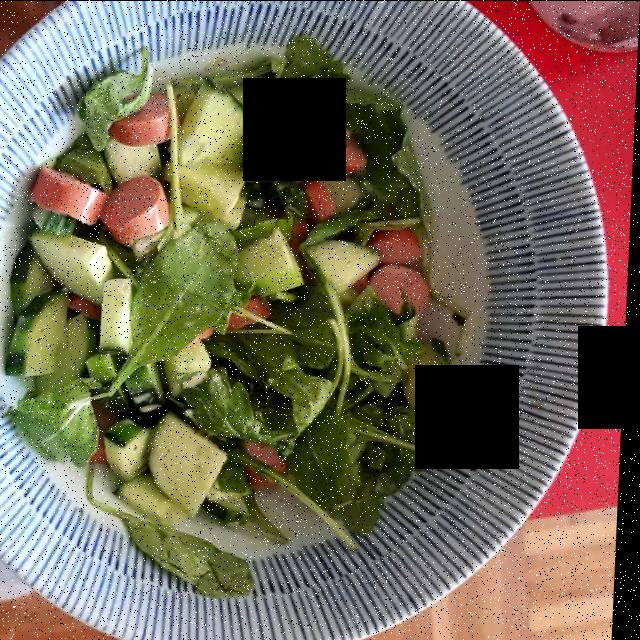cucumber: (4, 92, 390, 519)
leaf-spinach: (10, 54, 431, 596)
wienerli-swiss-sausage: (29, 94, 425, 492)
